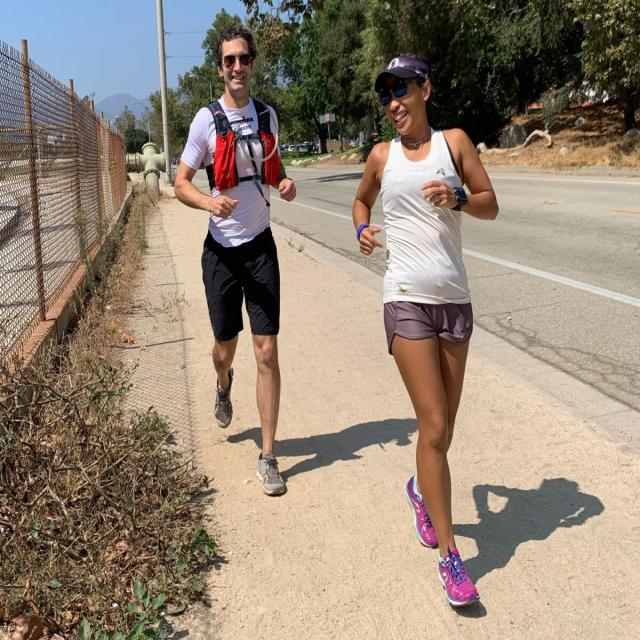Person: (354, 54, 499, 608), (176, 33, 296, 494)
